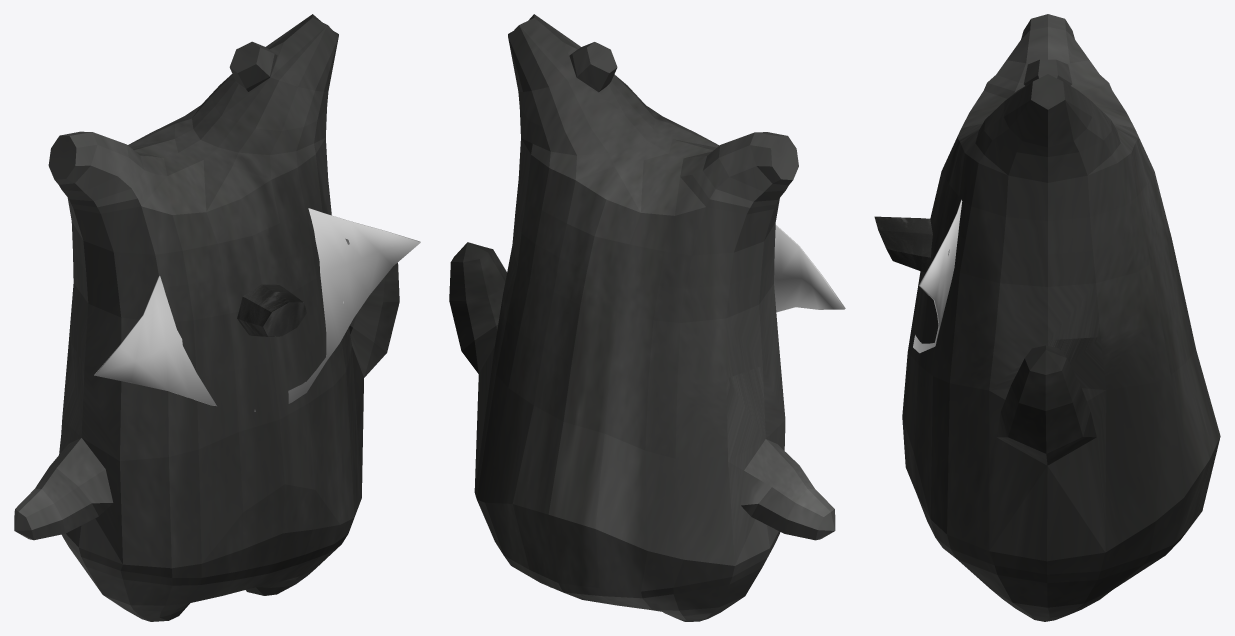
File: frame_0037.obj
3 views of the same model, side by side, from view 1: azimuth 30°, elevation 25°; view 2: azimuth 150°, elevation 25°; view 3: azimuth 270°, elevation 25° (orthographic).
Visible parts, largest first — view 1: korok, leaf, nose; view 2: korok, leaf; view 3: korok, nose, leaf.
Part boxes in pixels (<box>): korok: <box>14,14,399,621</box>; leaf: <box>94,208,420,411</box>; nose: <box>237,284,306,336</box>; korok: <box>449,14,835,621</box>; leaf: <box>774,225,845,312</box>; korok: <box>902,14,1220,621</box>; nose: <box>874,216,932,272</box>; leaf: <box>913,199,962,353</box>.
Size of the model in its own units: 1.63 by 2.3 by 1.27.
